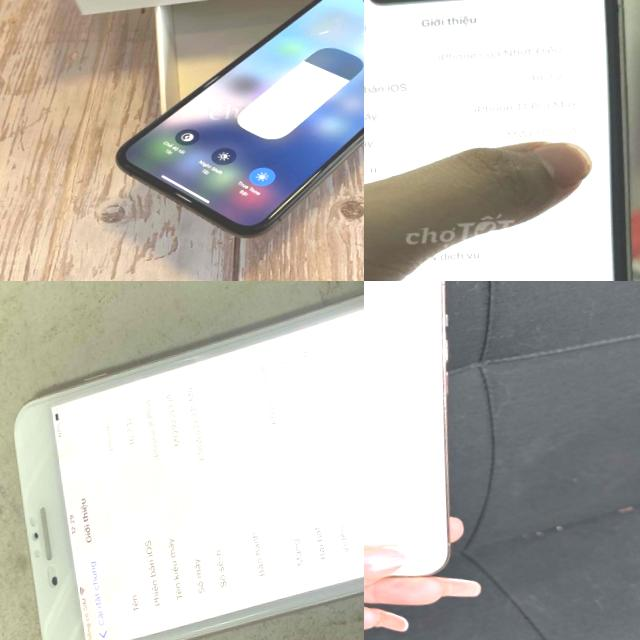gen_11: (364, 0, 640, 281)
gen_14: (364, 281, 466, 618)
gen_7_8: (0, 281, 364, 640)
gen_x_xs: (101, 0, 364, 248)
